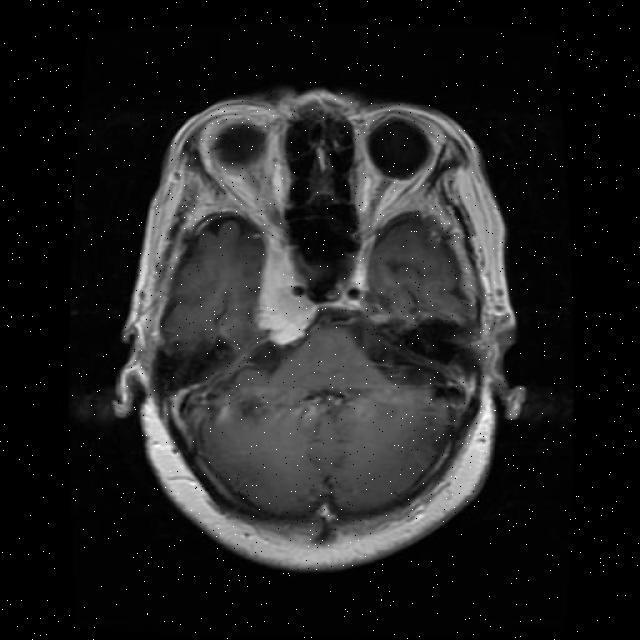Meningioma: (256, 234, 317, 344)
